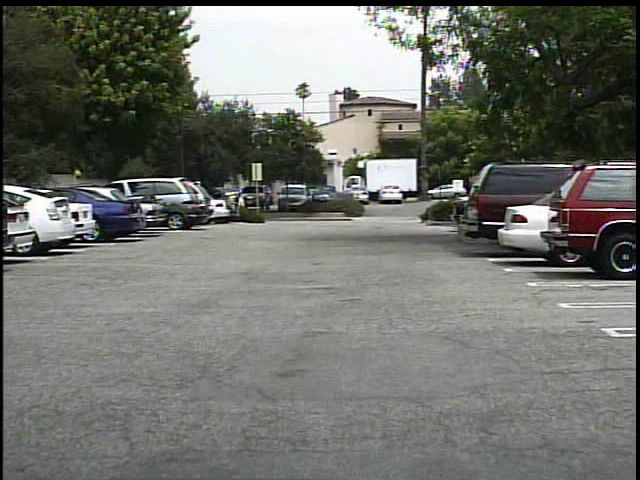person: (221, 189, 237, 219), (235, 193, 249, 221), (231, 189, 243, 220)
